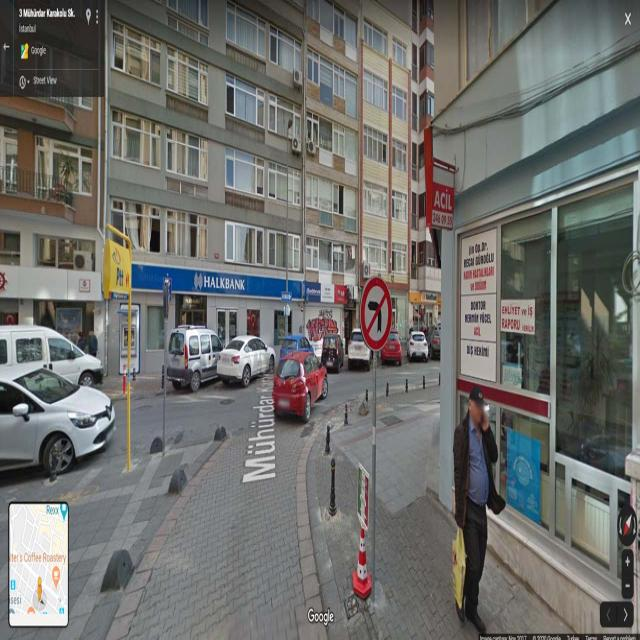soladonulmez: (361, 279, 391, 350)
